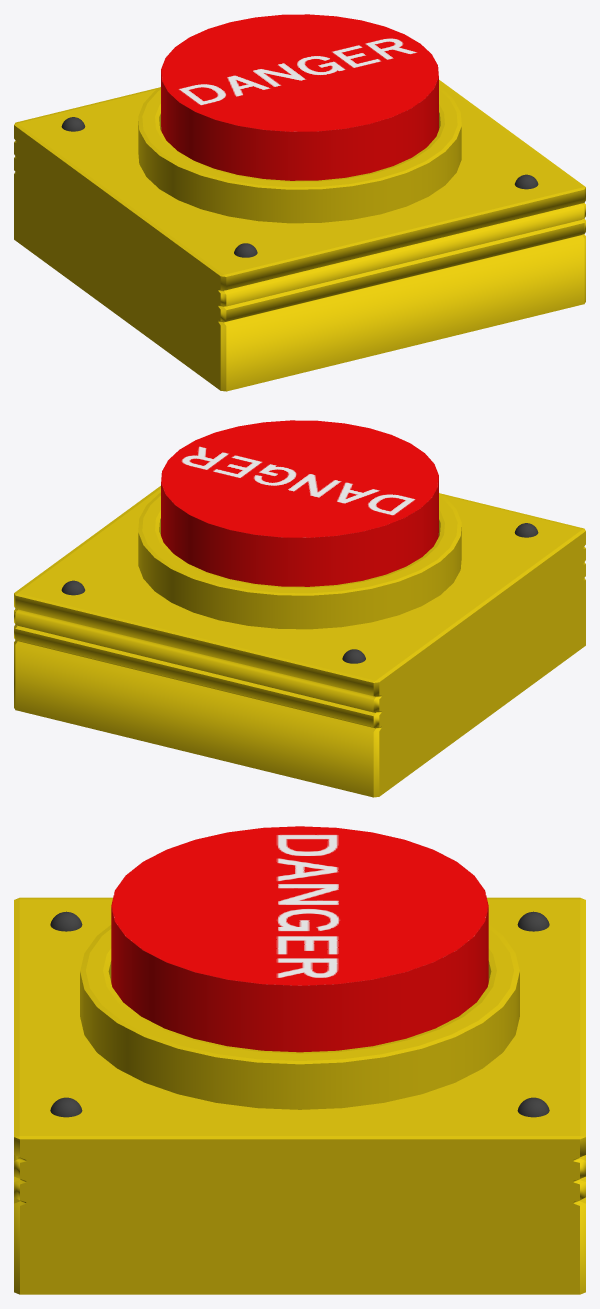
The model's file is firing button.fbx.
3 views of the same model, one above another, from view 1: azimuth 30°, elevation 25°; view 2: azimuth 150°, elevation 25°; view 3: azimuth 270°, elevation 25° (orthographic). The views are drawn at different scales.
Parts seen in each view (by area): view 1: firing button; view 2: firing button; view 3: firing button.
Part boxes in pixels (<box>): firing button: <box>14,14,585,391</box>; firing button: <box>14,420,585,797</box>; firing button: <box>14,826,585,1294</box>.
Size of the model in its own units: 11 by 5.7 by 11.
3 materials, 1 textured.
